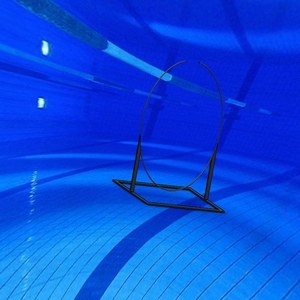circle: (111, 59, 229, 215)
